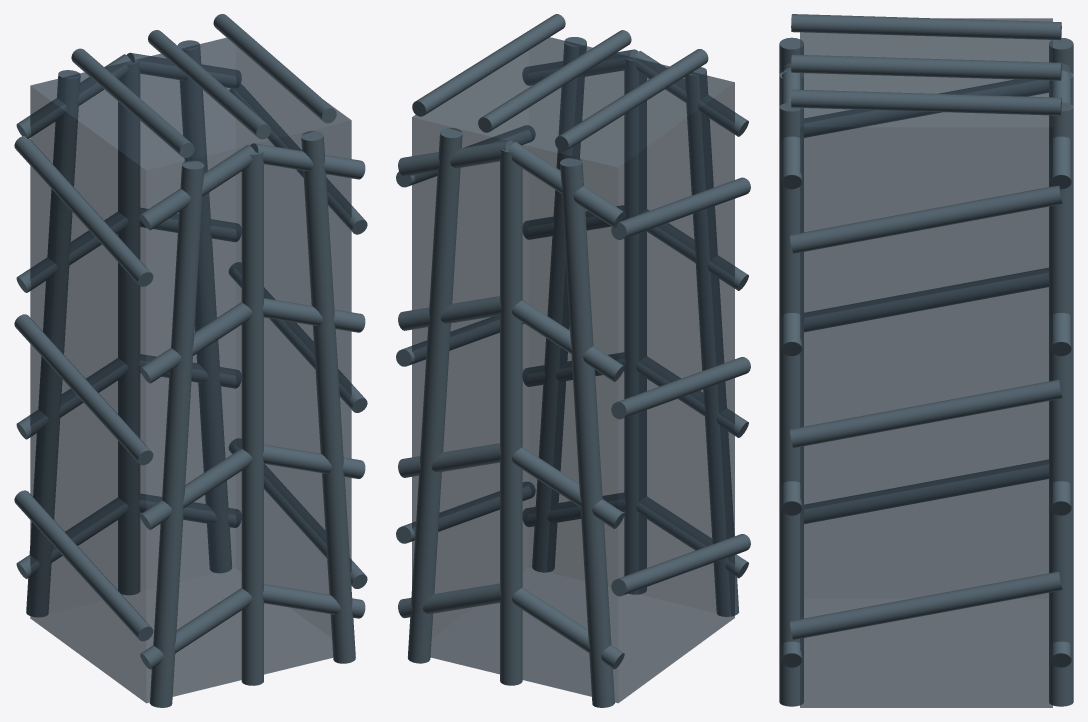
File: CMU3DHiveWallXenoMembraneQueen.glb
3 renders of one model, left to right at view 1: azimuth 30°, elevation 25°; view 2: azimuth 150°, elevation 25°; view 3: azimuth 270°, elevation 25°, orthographic. The views are drawn at different scales.
Visible parts, largest first — view 1: translucent resin membrane, vertical exoskeletal rib (×6), front and rear sweeping rib (×16), finished side rib (×6), roof rib (×3); view 2: translucent resin membrane, vertical exoskeletal rib (×6), front and rear sweeping rib (×16), finished side rib (×6), roof rib (×3); view 3: translucent resin membrane, finished side rib (×6), vertical exoskeletal rib (×4), roof rib (×3), front and rear sweeping rib (×8).
Boxes of the visible parts, x1,y1,x2,y2 form: translucent resin membrane: (30,37,351,703); vertical exoskeletal rib (×6): (26,40,355,707); front and rear sweeping rib (×16): (16,52,365,669); finished side rib (×6): (14,84,367,641); roof rib (×3): (71,14,336,157); translucent resin membrane: (412,37,734,703); vertical exoskeletal rib (×6): (407,37,739,707); front and rear sweeping rib (×16): (398,49,748,669); finished side rib (×6): (396,125,750,596); roof rib (×3): (412,14,708,151); translucent resin membrane: (800,18,1052,707); finished side rib (×6): (790,80,1062,639); vertical exoskeletal rib (×4): (779,37,1073,706); roof rib (×3): (791,14,1061,115); front and rear sweeping rib (×8): (781,70,1071,667).
Size of the model in its own units: 1.05 by 2.43 by 1.07.
